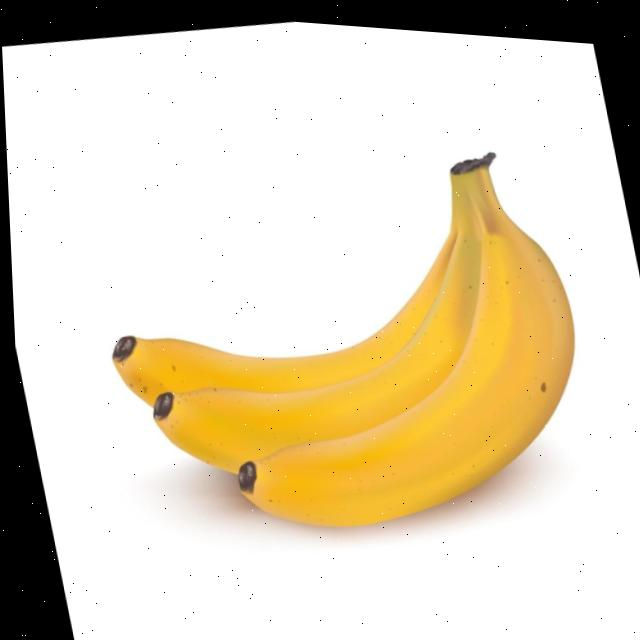Banana: (234, 159, 572, 521), (152, 170, 479, 468), (110, 212, 455, 402)
